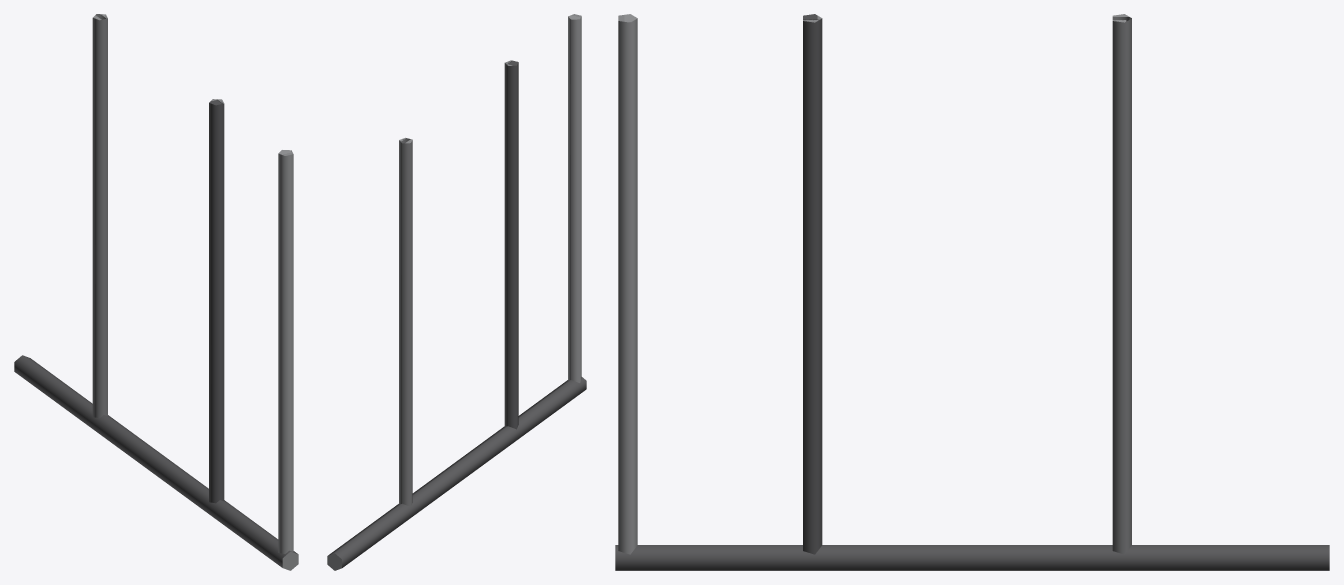
The picture shows the model from 3 angles, left to right: view 1: azimuth 30°, elevation 25°; view 2: azimuth 150°, elevation 25°; view 3: azimuth 270°, elevation 25°; orthographic projection. The views are drawn at different scales.
Bounding box in the file's own units: 0.0416 × 1.02 × 1.2.
